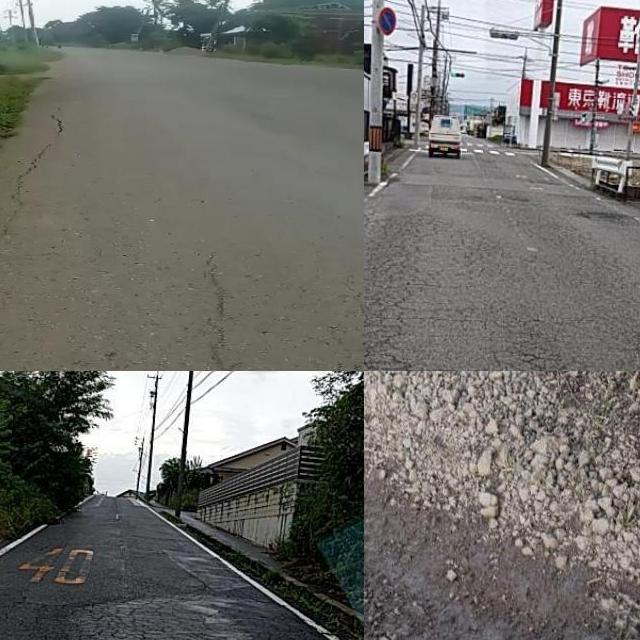Pinggir: (364, 418, 640, 640), (0, 65, 83, 246)
